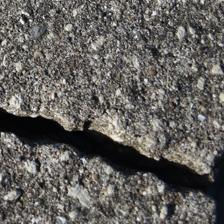Crack: (6, 93, 216, 205)
